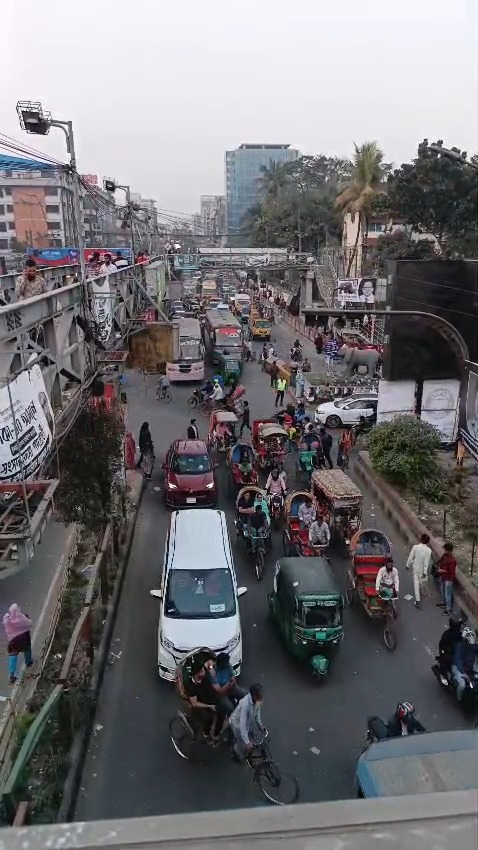auto-ricksaw: (251, 418, 291, 471)
cng: (270, 551, 348, 687)
private car: (149, 507, 249, 691), (161, 437, 220, 510)
